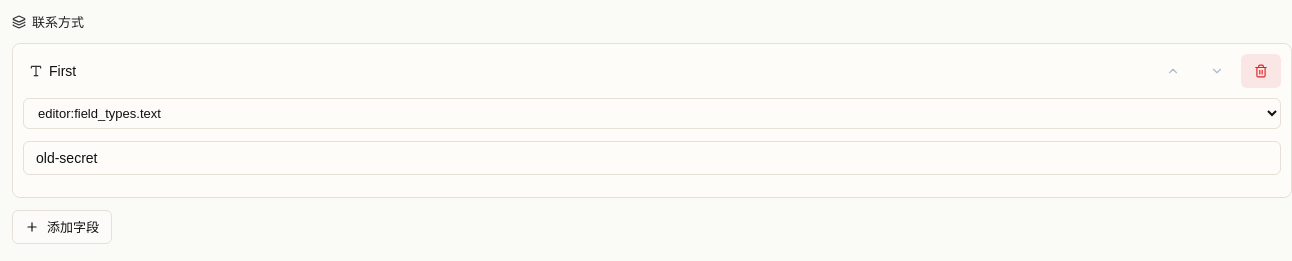
Test: DynamicGroupEditor › clears the previous value when a field changes type
This screenshot has width=1292, height=261.
Select "editor:field_types.boolean" in the dropdown: (652, 114) [23, 98, 1281, 129]
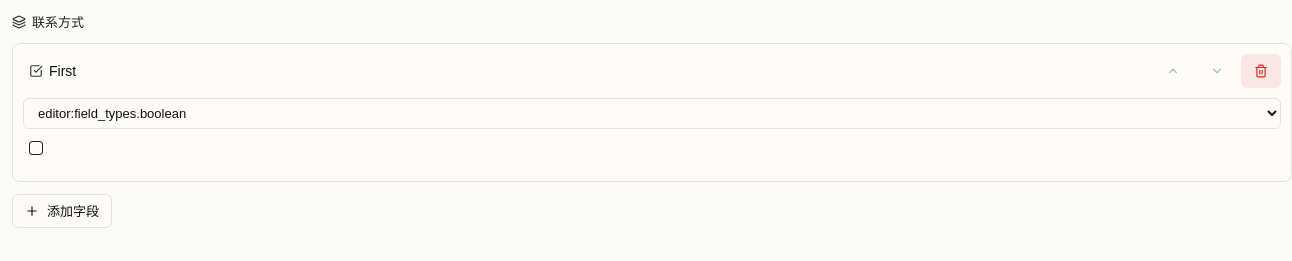
Expected: the field showing "old-secret" is not shown
Now the checkbox is not checked, box [29, 141, 43, 155]
